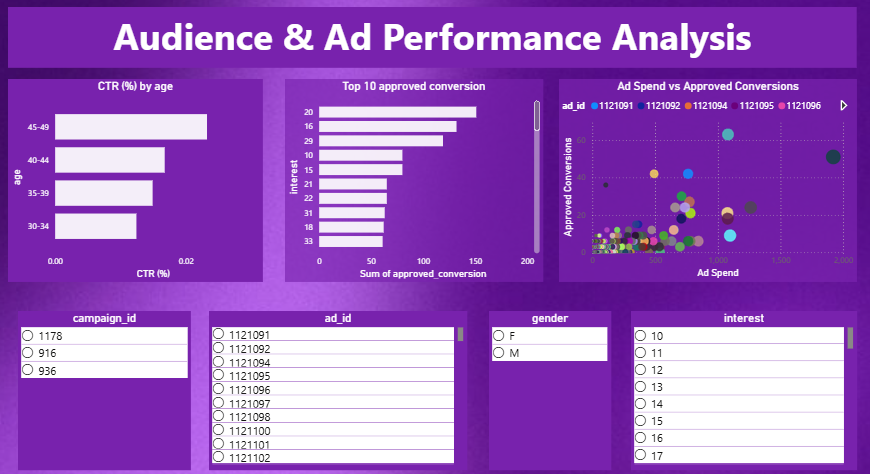

What the dashboard file says about the page in this screenshot:
{"tool":"powerbi","page":{"name":"Page 2","canvas":[1280,720],"ordinal":1},"visuals":[{"type":"barChart","fields":{"Category":["data.age"],"Y":["data.CTR (%)"]},"box":[17.6,109.8,386.3,336.6],"z":0},{"type":"barChart","title":"Top 10 approved conversion","fields":{"Category":["data.interest"],"Y":["Sum(data.approved_conversion)"]},"box":[414.1,109.8,396.6,336.6],"z":1000},{"type":"scatterChart","title":"Ad Spend vs Approved Conversions","fields":{"Category":["data.spent"],"Series":["data.ad_id"],"X":["Sum(data.spent)"],"Y":["Sum(data.approved_conversion)"],"Size":["Sum(data.clicks)"]},"box":[823.9,109.8,436.1,336.6],"z":2000},{"type":"advancedSlicerVisual","fields":{"Values":["data.campaign_id"]},"box":[32.2,465.4,643.9,109.8],"z":3000},{"type":"listSlicer","fields":{"Values":["data.ad_id"]},"box":[712.7,465.4,289.8,238.5],"z":4000},{"type":"advancedSlicerVisual","fields":{"Values":["data.gender"]},"box":[35.1,597.1,641,95.1],"z":5000},{"type":"listSlicer","fields":{"Values":["data.interest"]},"box":[1017.1,465.4,242.9,238.5],"z":6000},{"type":"textbox","box":[17.6,11.7,1242.4,82],"z":7000}]}

Visuals, with their boxes on the page's 1280x720 design canvas (x1, y1, x2, y2). These are canvas units, not pixel positions in the 870x474 screenshot, which may show the page scaled, cropped or inside an application window:
barChart - data.age x data.CTR (%): l=18, t=110, r=404, b=446
"Top 10 approved conversion" barChart: l=414, t=110, r=811, b=446
"Ad Spend vs Approved Conversions" scatterChart: l=824, t=110, r=1260, b=446
advancedSlicerVisual - data.campaign_id: l=32, t=465, r=676, b=575
listSlicer - data.ad_id: l=713, t=465, r=1002, b=704
advancedSlicerVisual - data.gender: l=35, t=597, r=676, b=692
listSlicer - data.interest: l=1017, t=465, r=1260, b=704
textbox: l=18, t=12, r=1260, b=94
